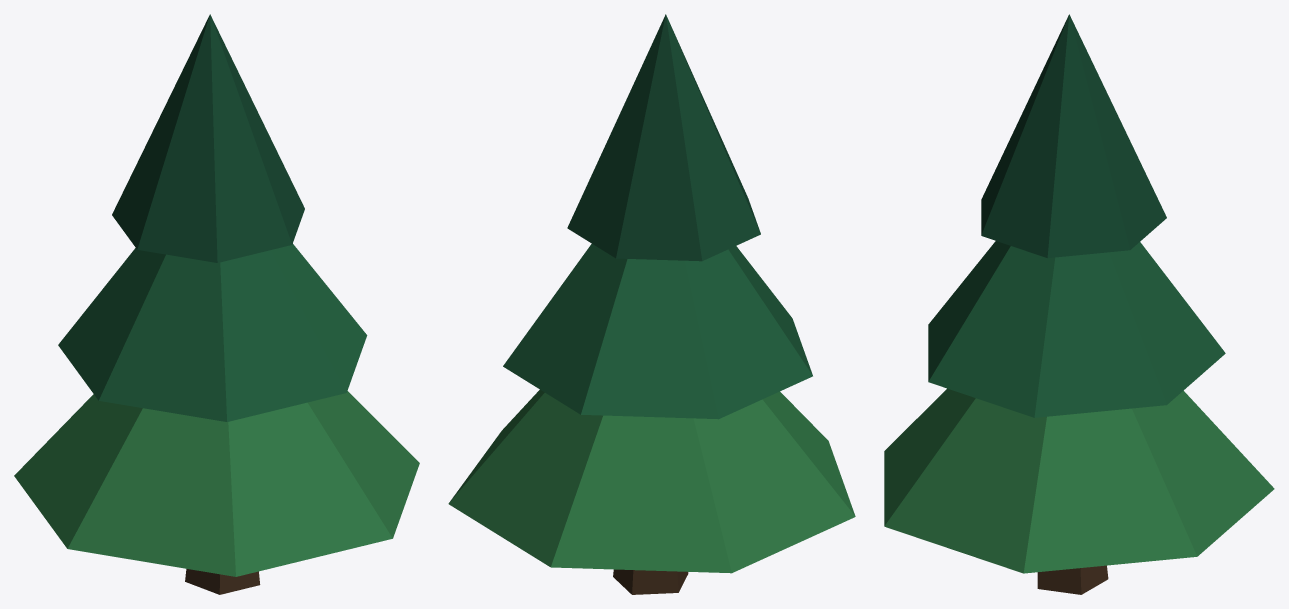
The model's file is Scatter_PineSmall.fbx.
The picture shows the model from 3 angles, left to right: view 1: azimuth 30°, elevation 25°; view 2: azimuth 150°, elevation 25°; view 3: azimuth 270°, elevation 25°; orthographic projection.
Parts seen in each view (by area): view 1: PineSmall; view 2: PineSmall; view 3: PineSmall.
Boxes of the visible parts, x1,y1,x2,y2 form: PineSmall: (14,14,419,594); PineSmall: (448,14,855,594); PineSmall: (884,14,1274,594).
Bounding box in the file's own units: 8.19 × 12.6 × 7.98.
